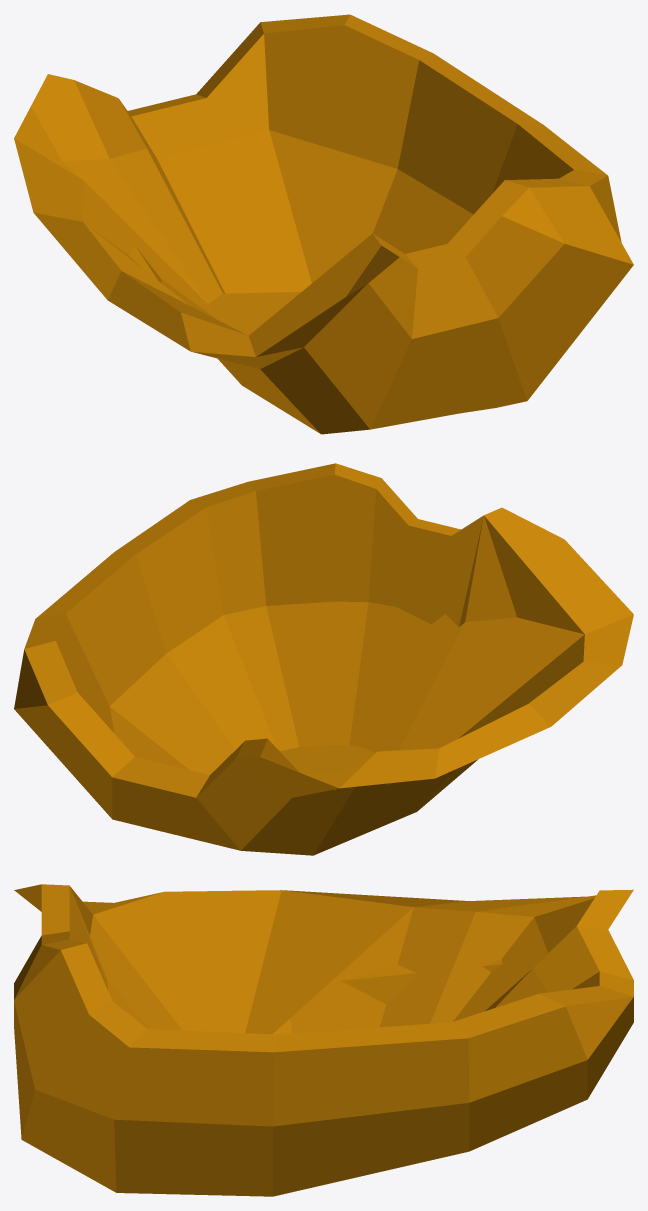
Rendered from pepperfruit04.obj.
The picture shows the model from 3 angles, top to bottom: view 1: azimuth 30°, elevation 25°; view 2: azimuth 150°, elevation 25°; view 3: azimuth 270°, elevation 25°; orthographic projection. The views are drawn at different scales.
Parts seen in each view (by area): view 1: Cylinder.001; view 2: Cylinder.001; view 3: Cylinder.001.
Part boxes in pixels (x1,y1,x2,y2): Cylinder.001: [14, 14, 633, 434]; Cylinder.001: [14, 463, 633, 855]; Cylinder.001: [14, 884, 633, 1196].
Size of the model in its own units: 0.0636 by 0.0333 by 0.0748.
1 material, 1 textured.
